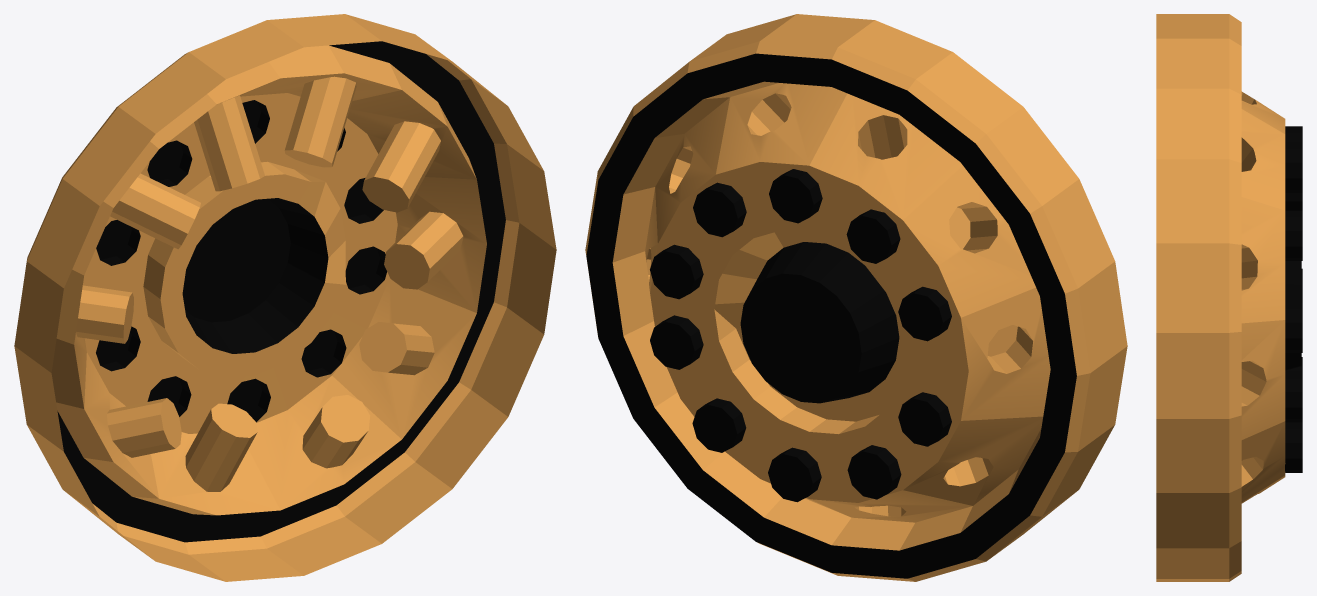
Rendered from Ring5.fbx.
3 renders of one model, left to right at view 1: azimuth 30°, elevation 25°; view 2: azimuth 150°, elevation 25°; view 3: azimuth 270°, elevation 25°, orthographic.
Parts seen in each view (by area): view 1: polySurface2; view 2: polySurface2; view 3: polySurface2.
Part boxes in pixels (bbox=[...]): polySurface2: bbox=[14, 14, 556, 581]; polySurface2: bbox=[585, 14, 1127, 581]; polySurface2: bbox=[1156, 14, 1302, 581].
Bounding box in the file's own units: 0.0277 × 0.0277 × 0.00709.
